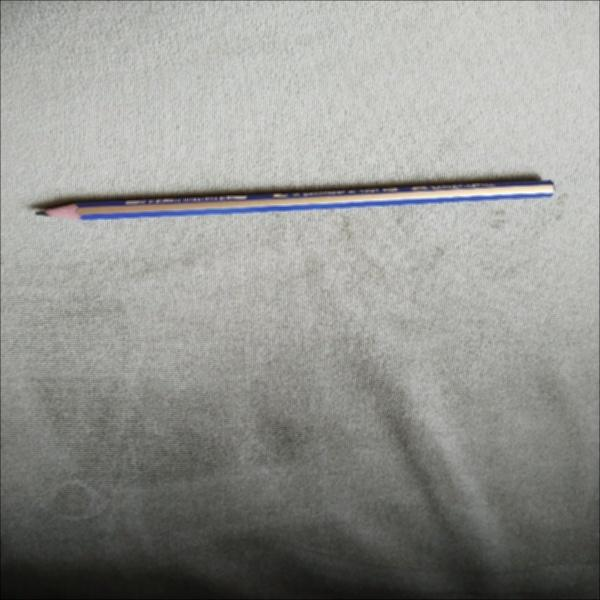pencil: (27, 171, 566, 231)
